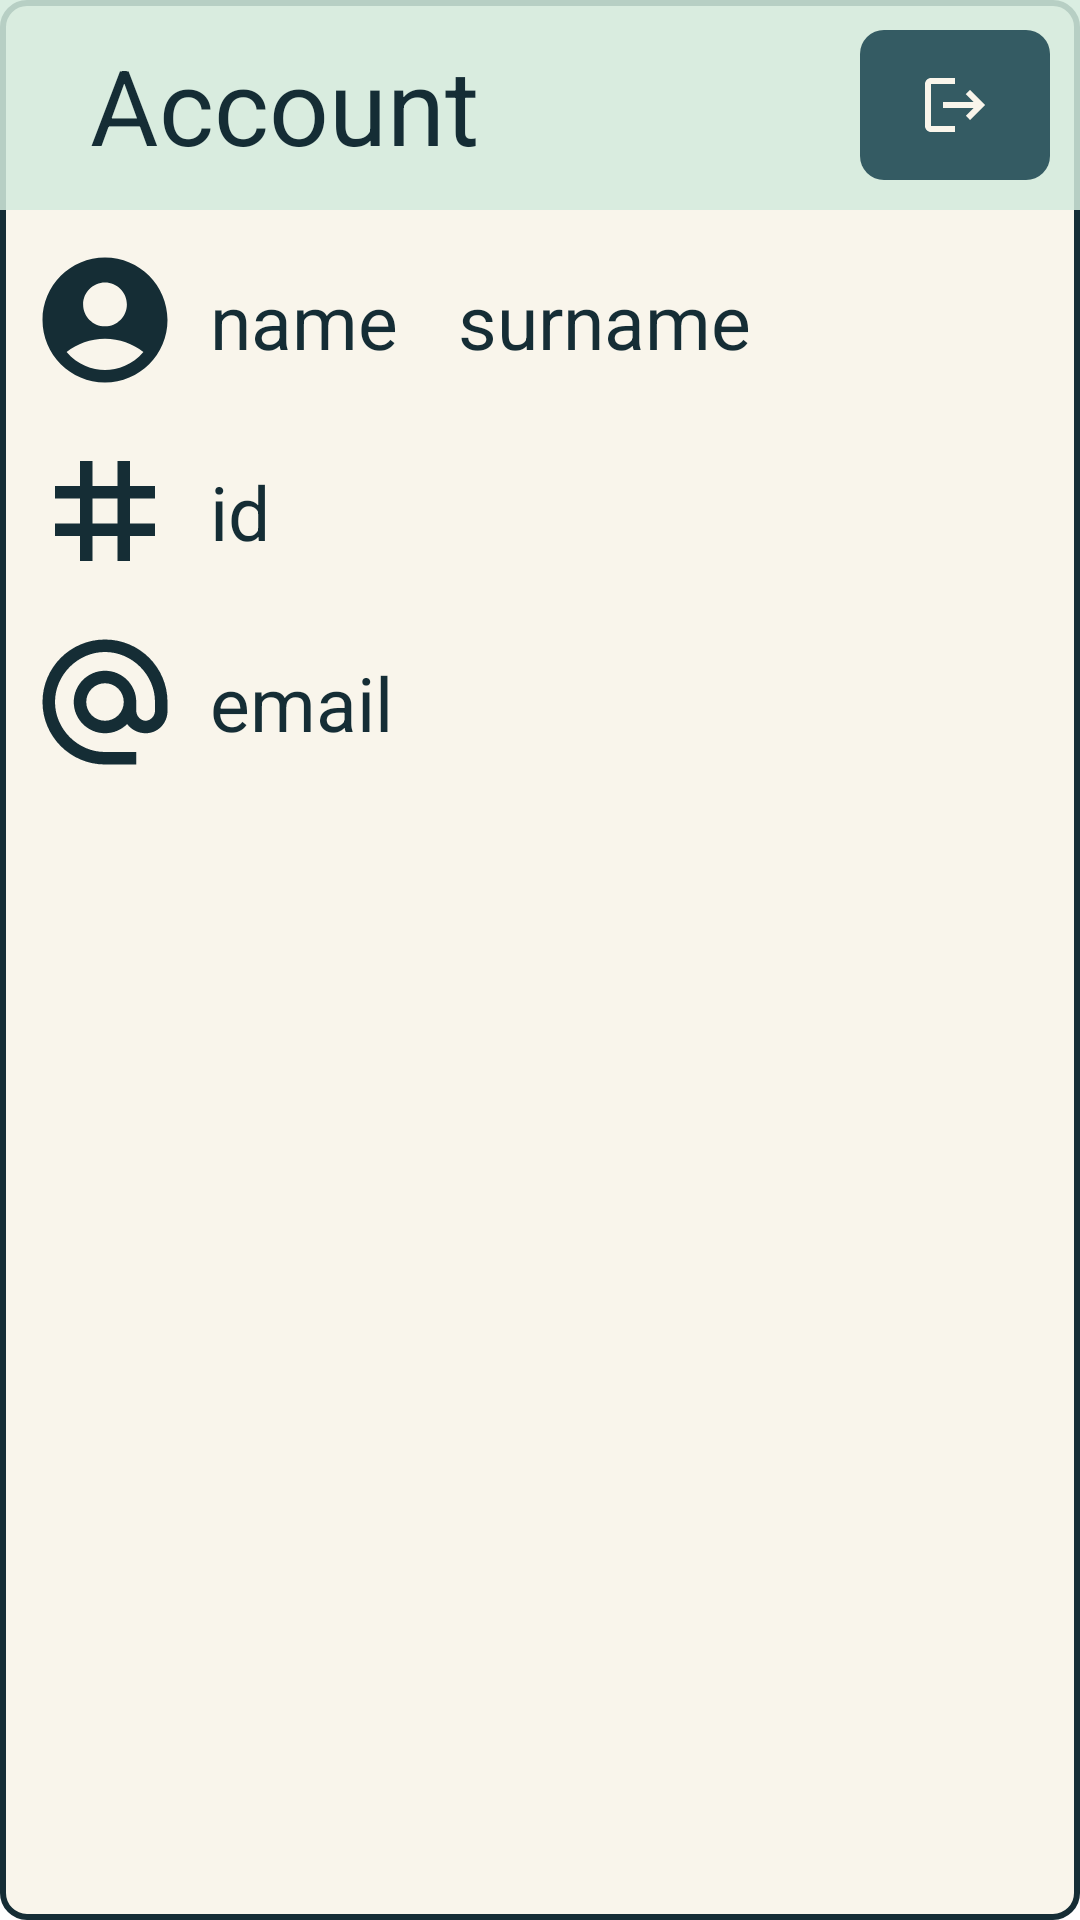

Where icons sit on this 1080px x 1920px app screen, as [x1,y1,x2,y2]:
grid: [55,461,155,561]
